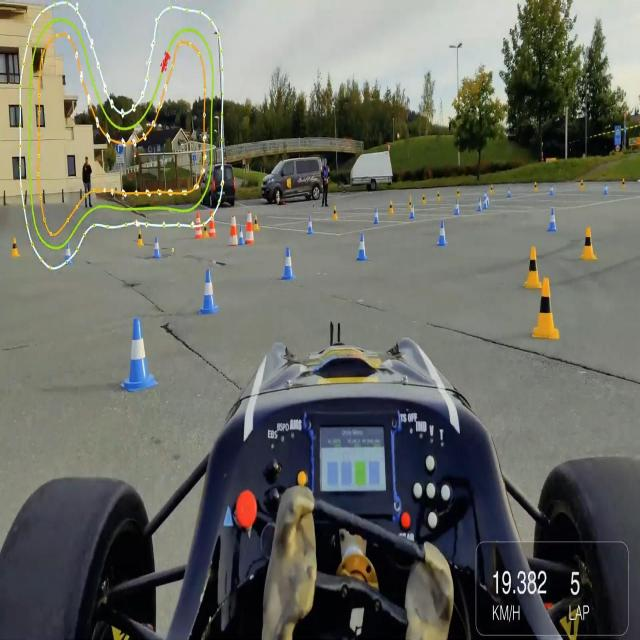blue_cone: (122, 314, 157, 393), (201, 269, 220, 318), (279, 247, 295, 282), (356, 232, 368, 262), (437, 220, 449, 247), (547, 207, 556, 231), (64, 239, 72, 266), (153, 239, 163, 258), (238, 224, 245, 246), (307, 217, 314, 234), (410, 203, 416, 220), (454, 199, 460, 216), (374, 206, 379, 226), (477, 196, 482, 212), (506, 186, 511, 199), (549, 185, 554, 197), (483, 196, 487, 210), (603, 184, 608, 195), (483, 190, 487, 202), (486, 193, 489, 205)
large_orange_cone: (228, 215, 238, 247), (245, 211, 254, 245), (208, 210, 216, 237), (195, 212, 202, 238)
yellow_cone: (532, 276, 560, 342), (524, 245, 542, 290), (580, 226, 596, 263), (10, 235, 20, 258), (136, 228, 144, 246), (253, 214, 259, 230), (333, 205, 338, 221), (408, 194, 413, 210), (389, 199, 394, 214), (204, 222, 208, 238), (580, 180, 585, 192), (621, 178, 626, 190), (436, 190, 441, 200), (422, 194, 426, 205), (490, 184, 494, 195), (456, 188, 460, 198), (534, 182, 538, 192)
